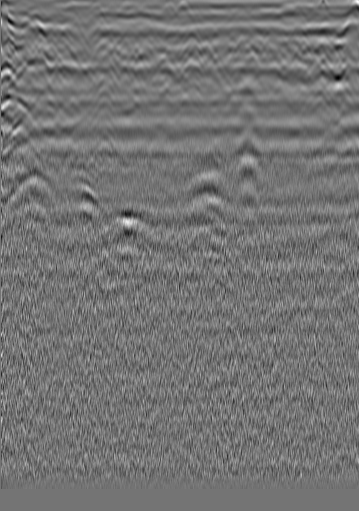가스: (102, 205, 151, 240)
상수: (312, 37, 332, 57)
오수: (26, 23, 46, 43)
우수: (198, 42, 218, 62)
